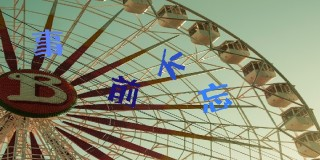不: (155, 48, 186, 80)
事: (32, 27, 65, 60)
前: (108, 74, 141, 108)
忘: (198, 82, 233, 113)
